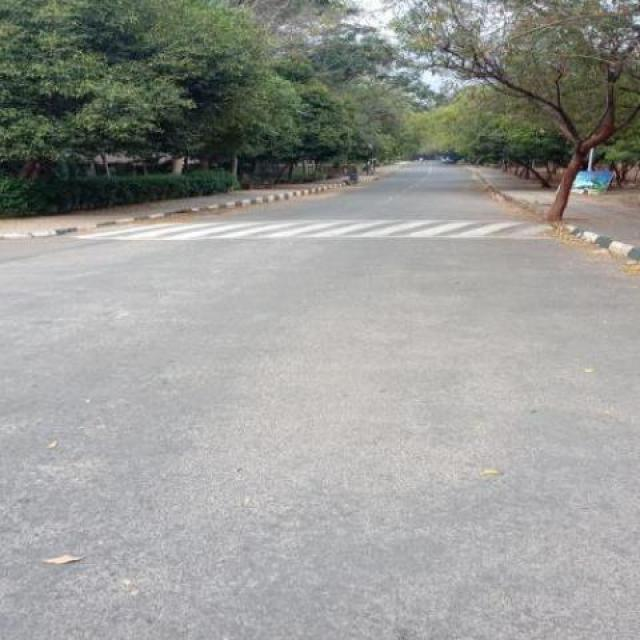Speed Bump: (64, 217, 572, 240)
